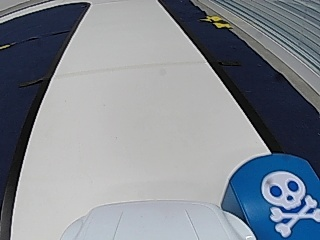danger: (262, 170, 318, 235)
